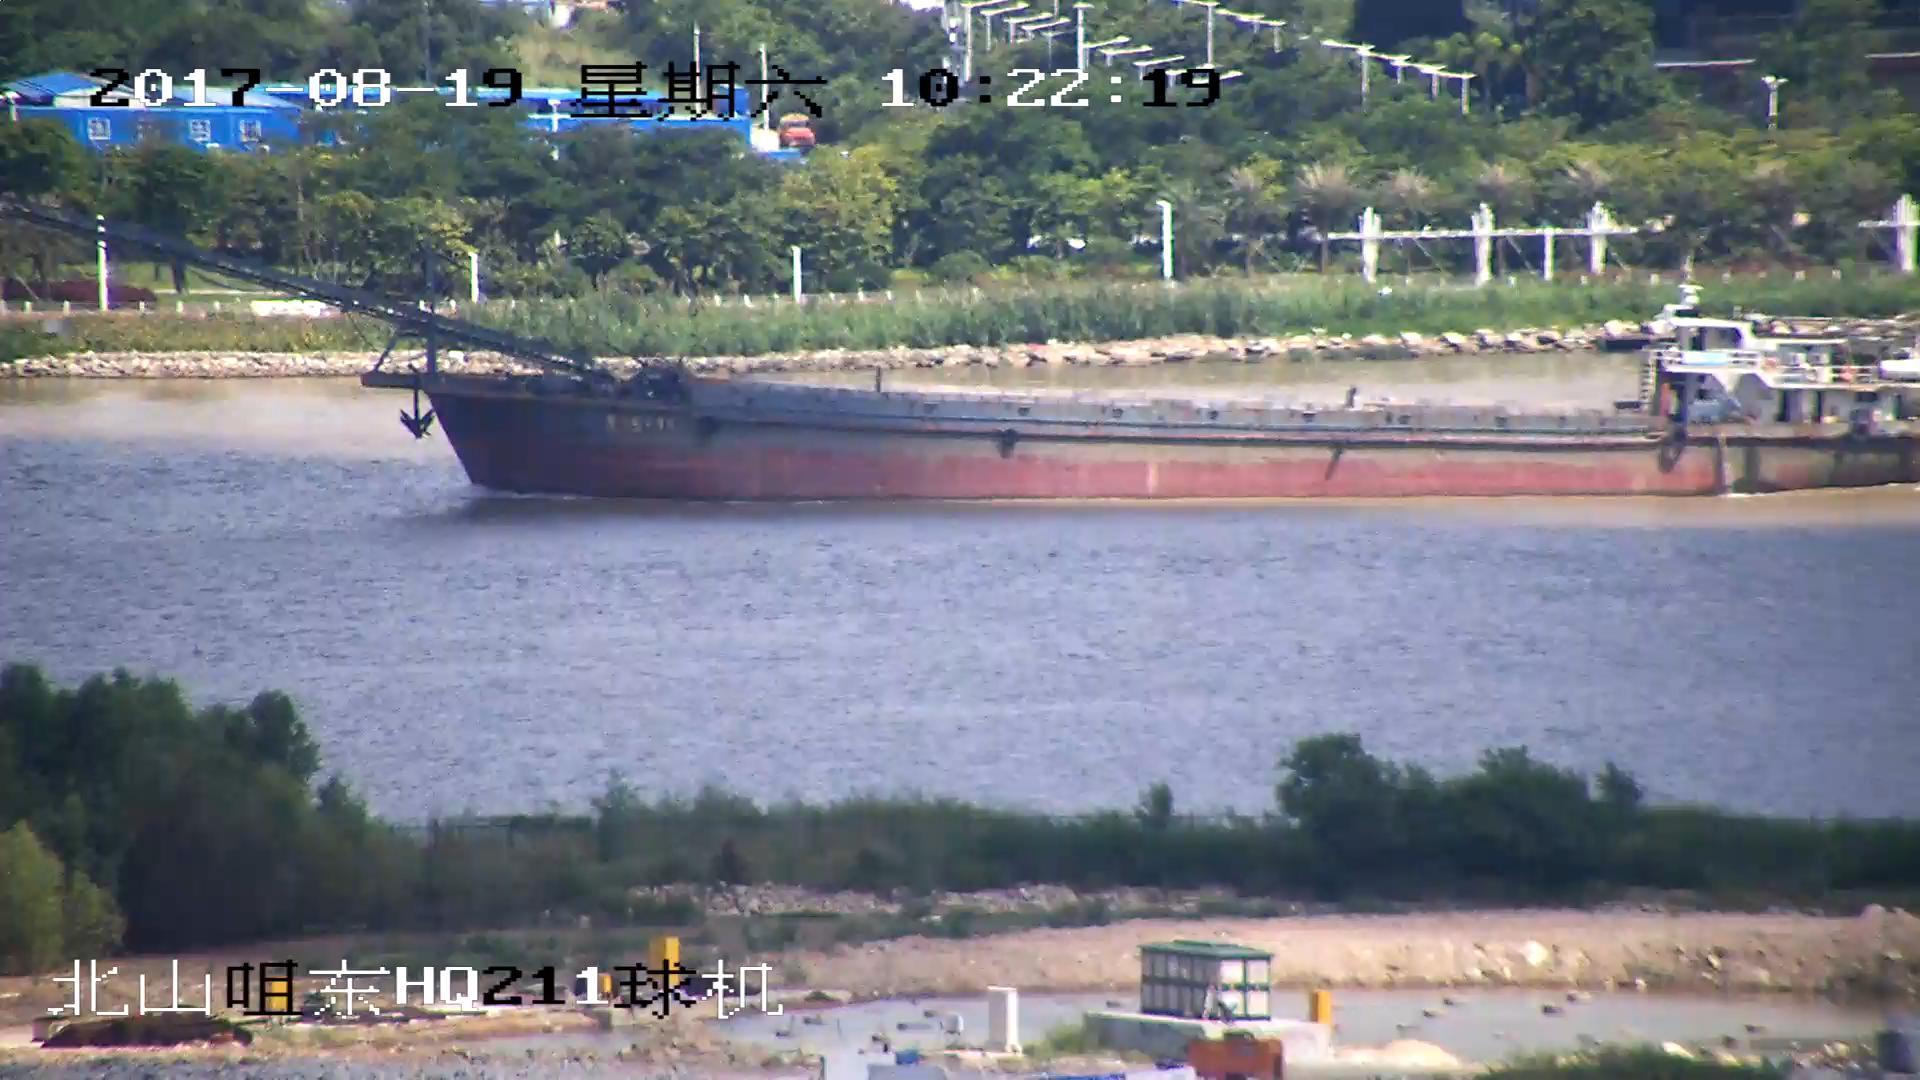Ship: (28, 215, 1920, 498)
